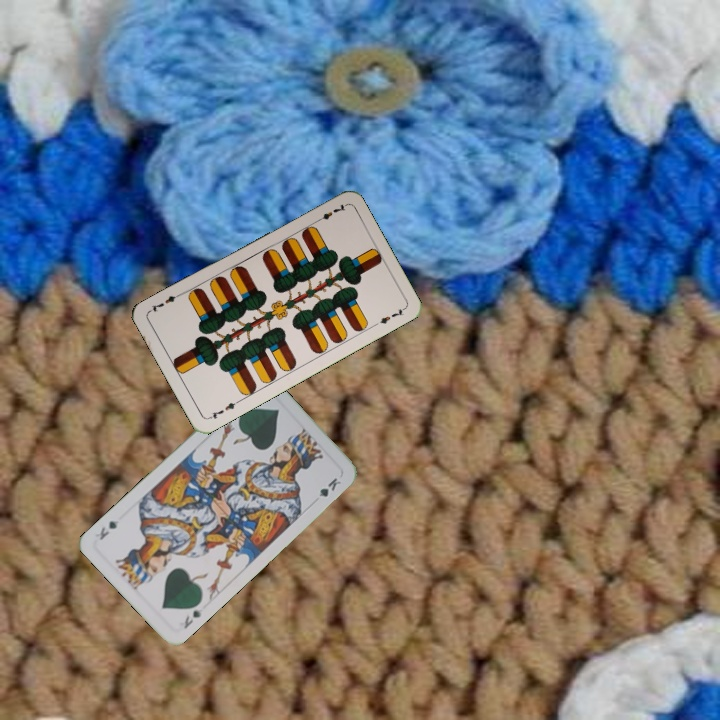E7: (311, 200, 349, 225), (205, 397, 242, 422)
GK: (180, 604, 205, 632)
